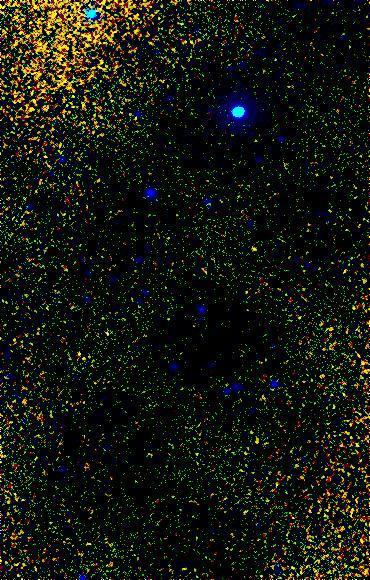star: (242, 232, 272, 262)
